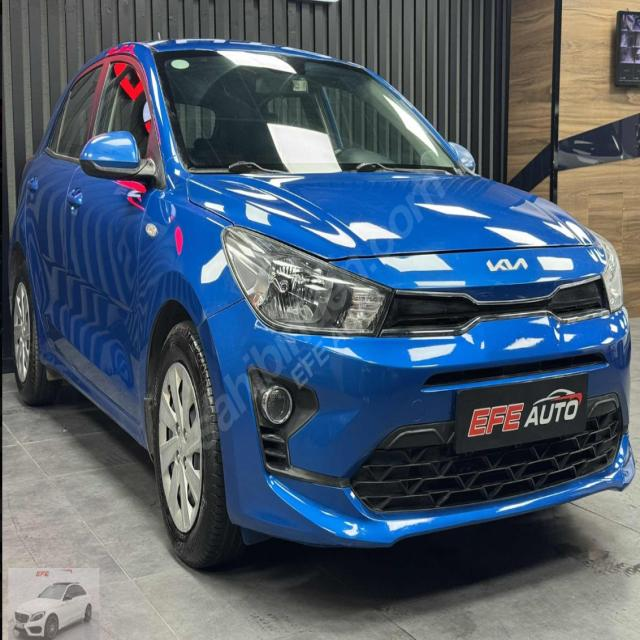kia: (486, 250, 530, 278)
